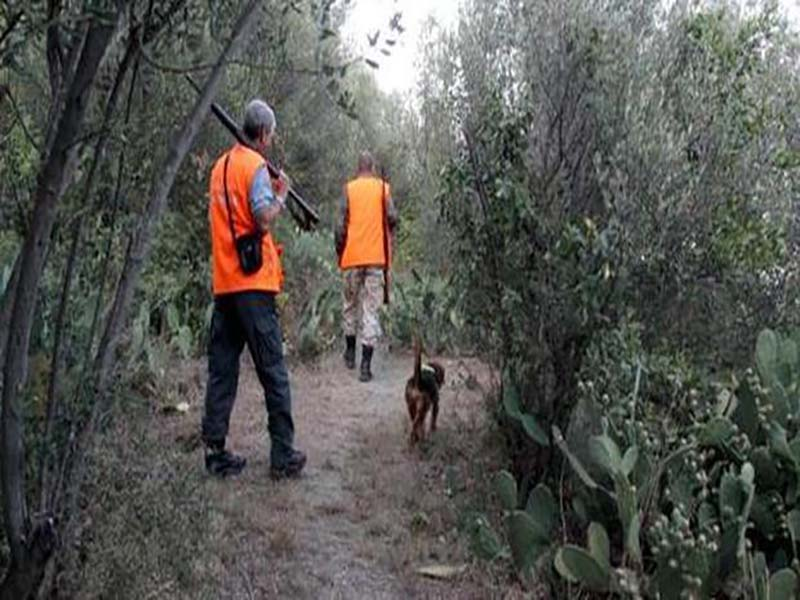cacciatore: (180, 71, 320, 483), (337, 152, 398, 385)
cane da caccia: (405, 341, 451, 440)
